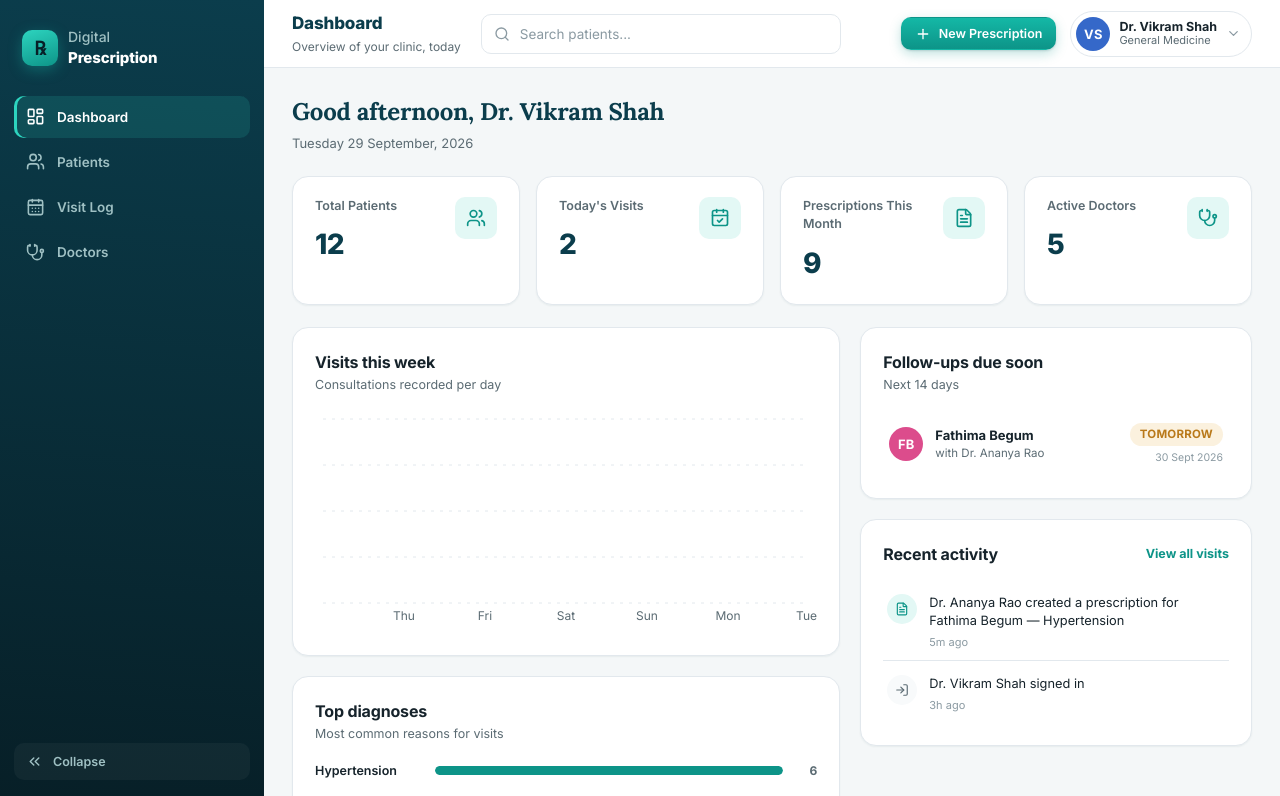
AppShell › shows the server's error when the current password is wrong
The width and height of the screenshot is (1280, 796).
Click the button with aria-label "Account menu" at (1161,34), box [1070,10,1252,56]
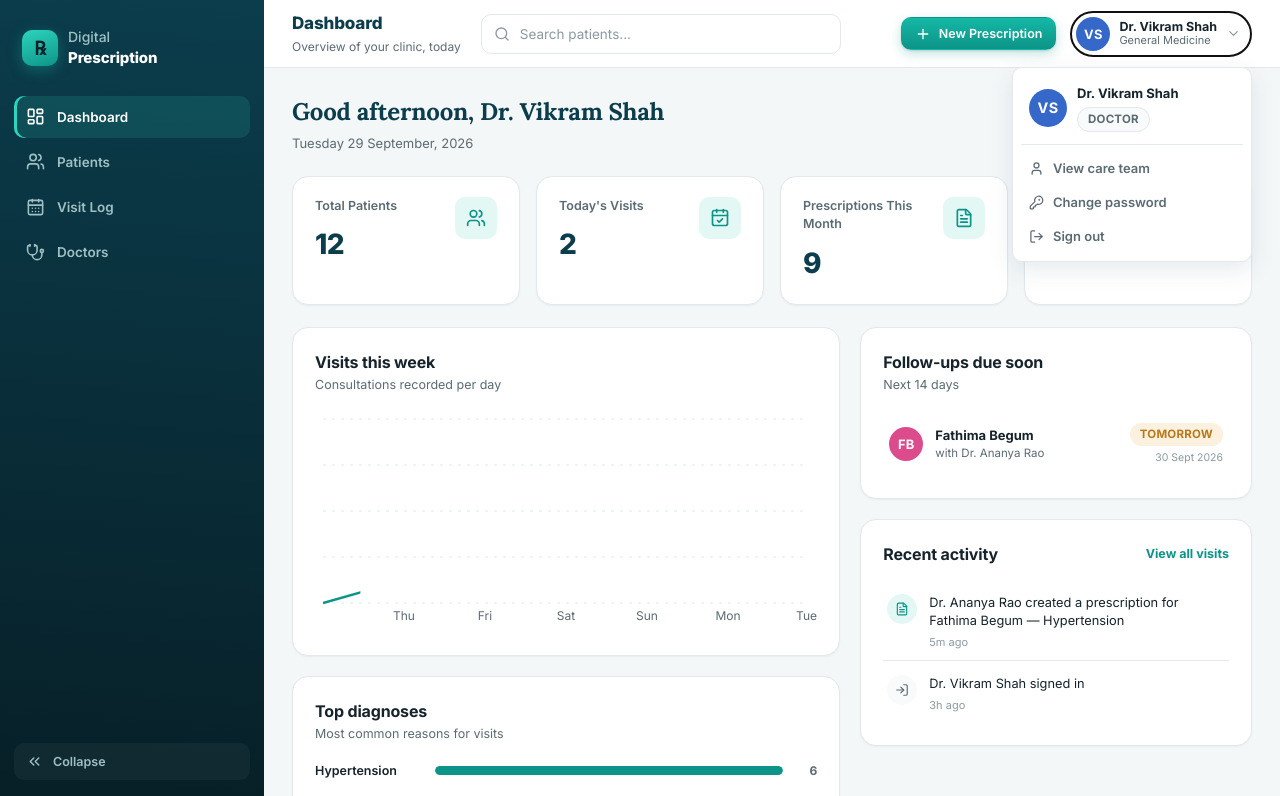
Click the menu item "Change password" at (1132,202), box [1021,185,1243,219]
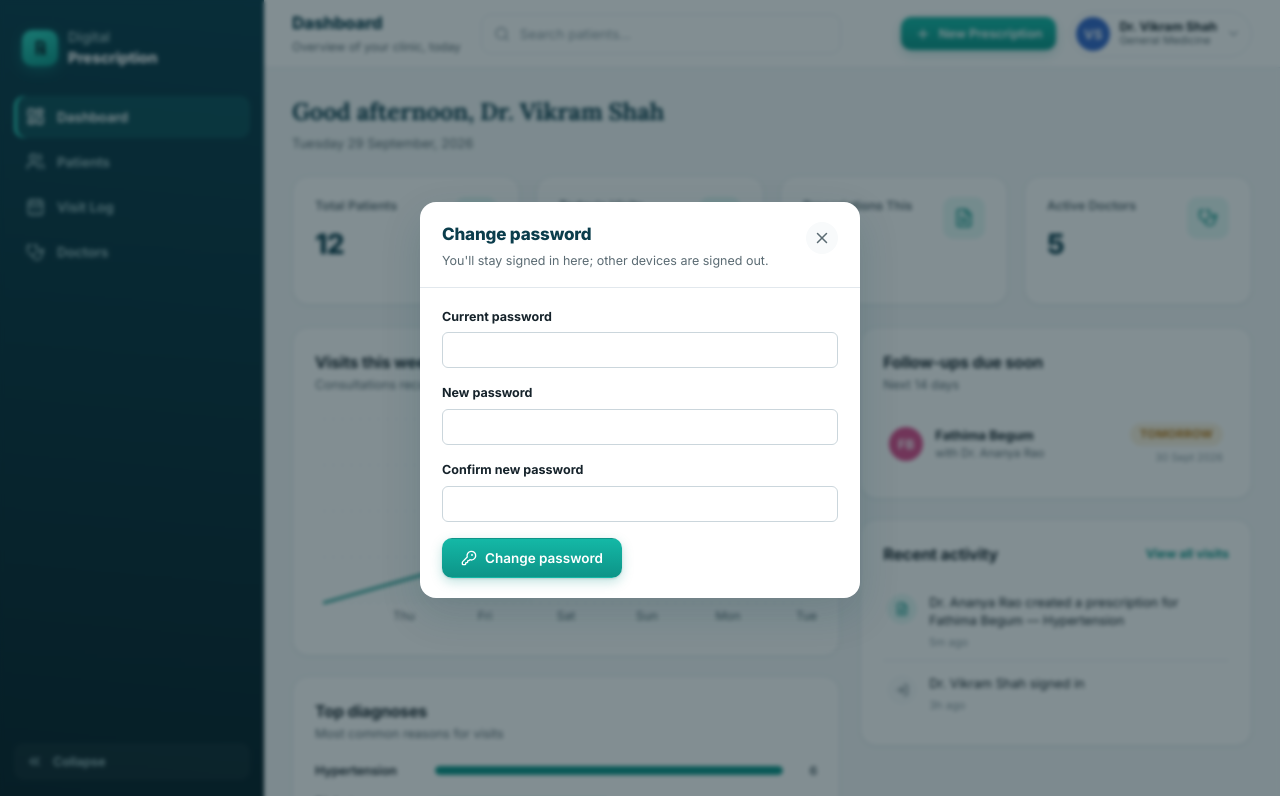
Type "wrong" into the password field labelled "Current password" at (640,350), box [442,332,838,368]
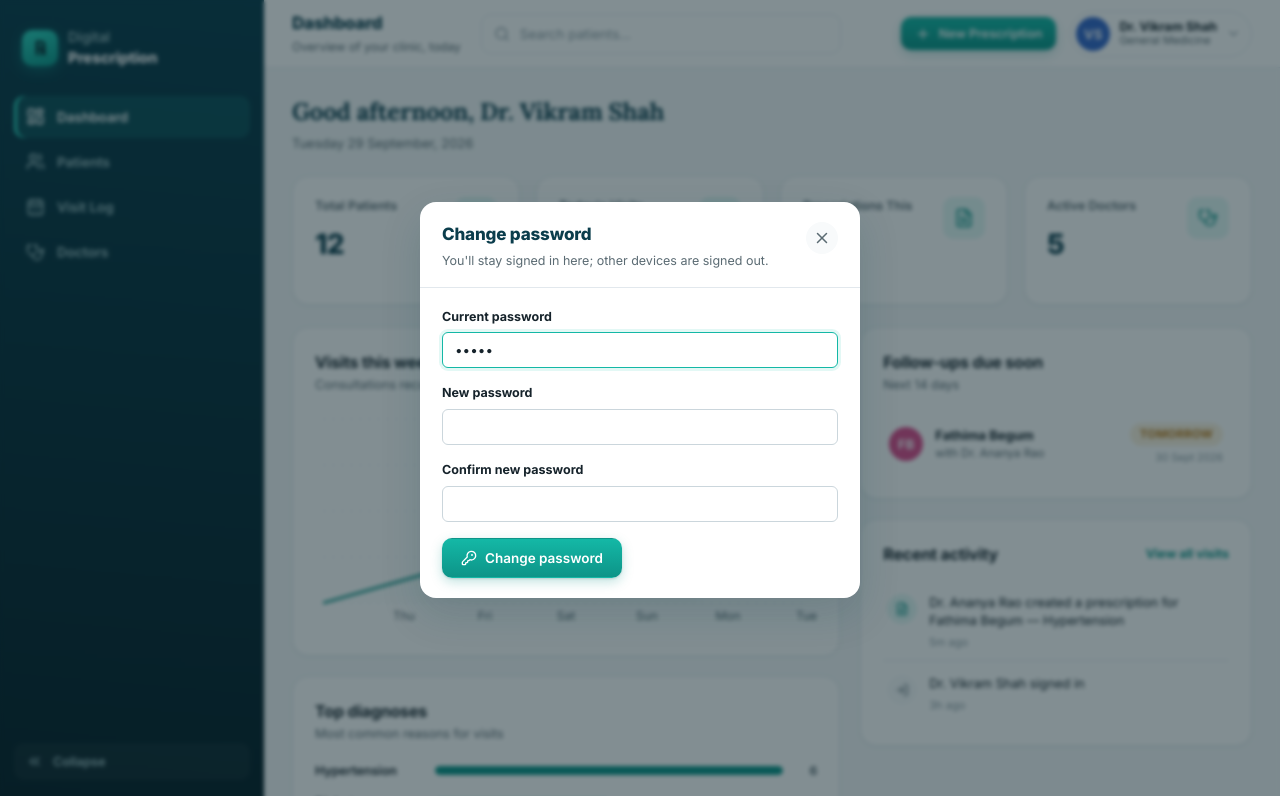
Type "a-brand-new-password" into the password field labelled "New password" at (640,427), box [442,409,838,445]
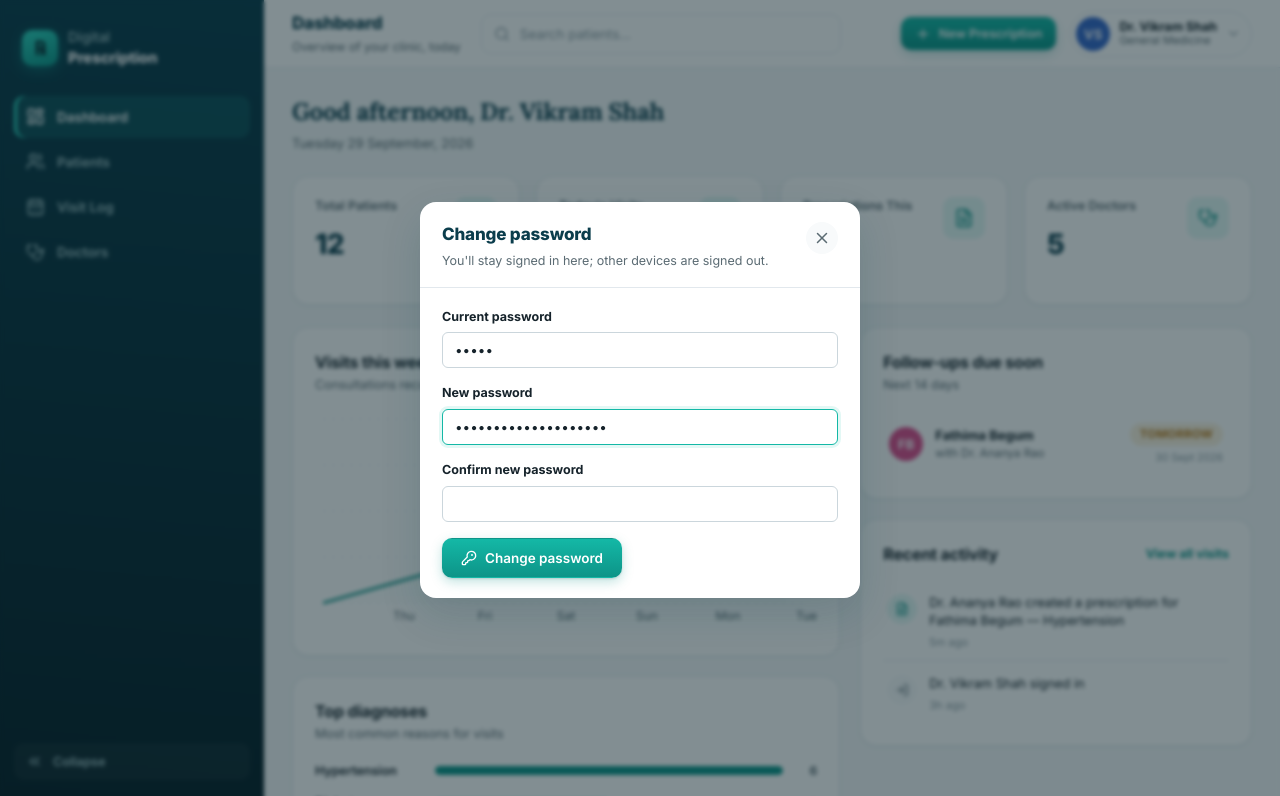
Type "a-brand-new-password" into the password field labelled "Confirm new password" at (640,504), box [442,486,838,522]
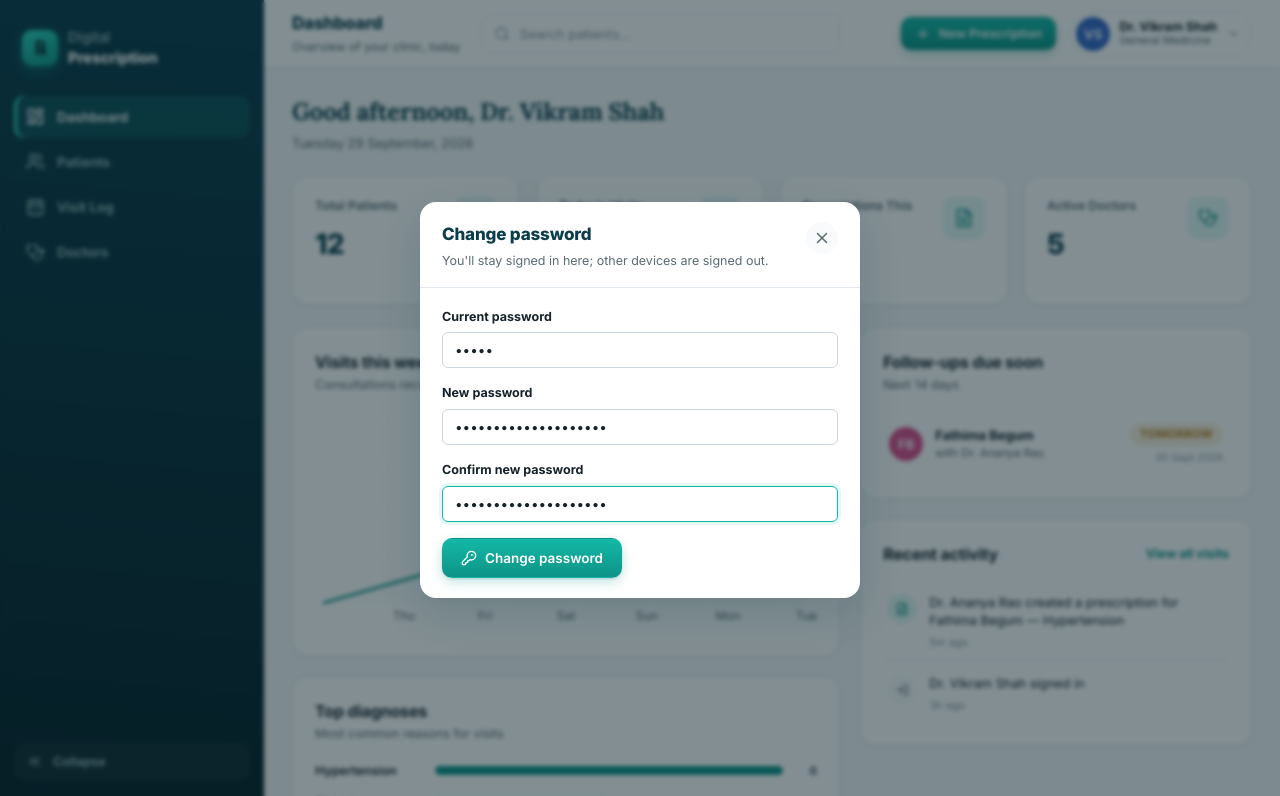
Click the button "Change password" at (532,558), box [442,538,622,578]
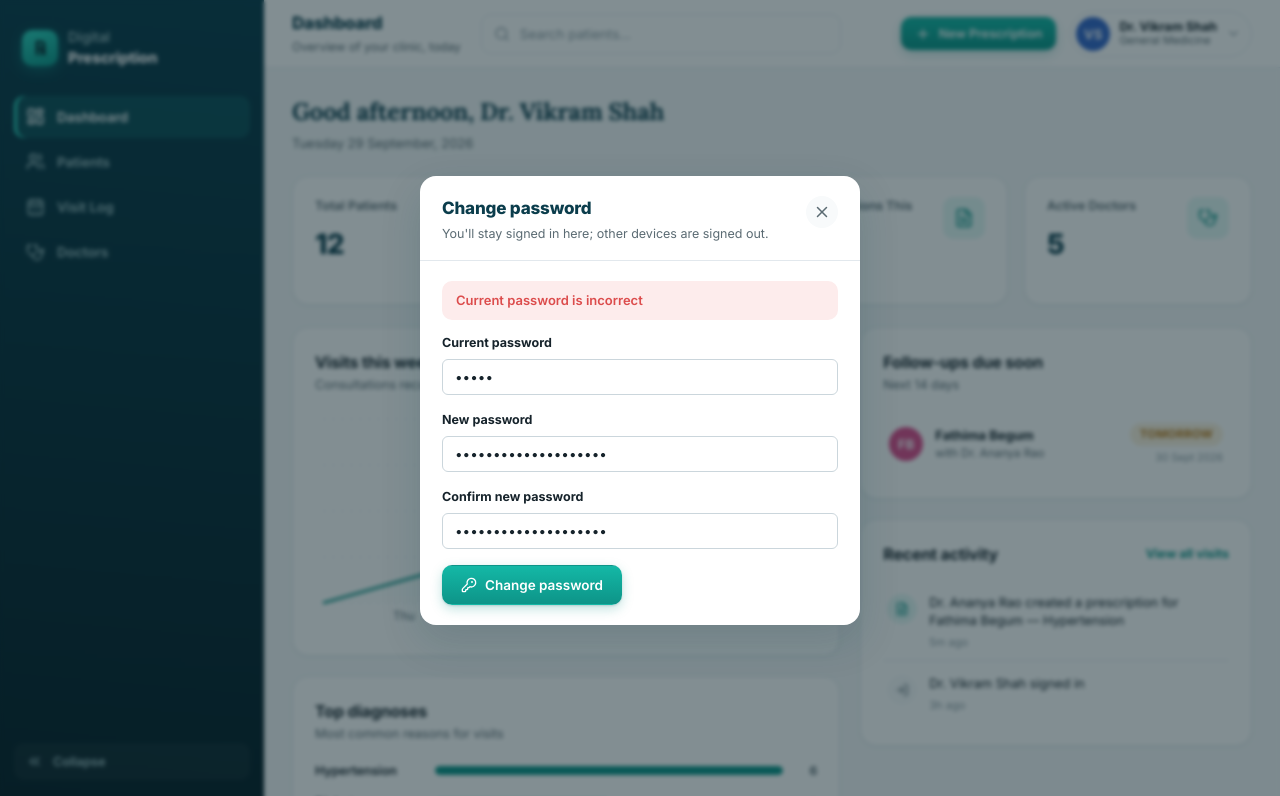
Result: the message reads "Current password is incorrect" at [456,292,643,308]
